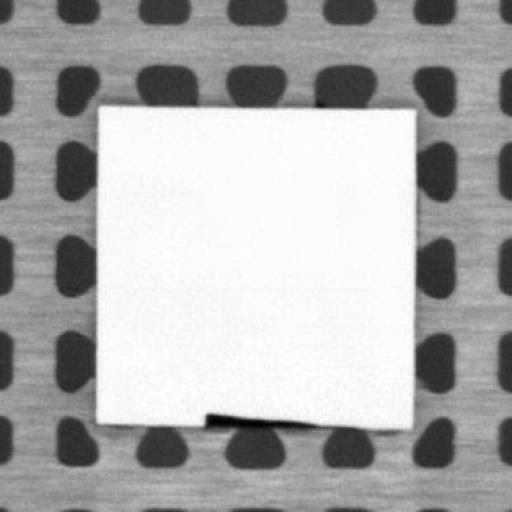DIE_BROKEN: (202, 409, 322, 430)
